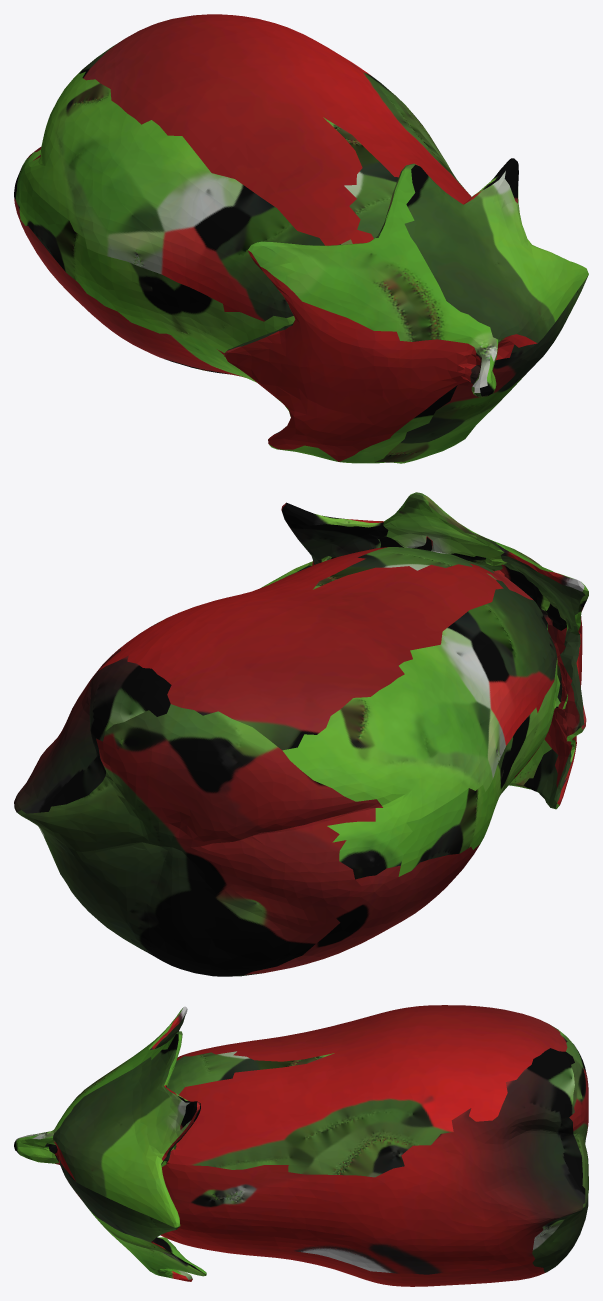
File: sample.obj
The picture shows the model from 3 angles, top to bottom: view 1: azimuth 30°, elevation 25°; view 2: azimuth 150°, elevation 25°; view 3: azimuth 270°, elevation 25°; orthographic projection. The views are drawn at different scales.
Parts seen in each view (by area): view 1: sample.obj; view 2: sample.obj; view 3: sample.obj.
Boxes of the visible parts, <box> form: sample.obj: <box>14,14,588,463</box>; sample.obj: <box>14,492,588,976</box>; sample.obj: <box>14,1005,588,1286</box>.
Size of the model in its own units: 0.065 by 0.05 by 0.105.
